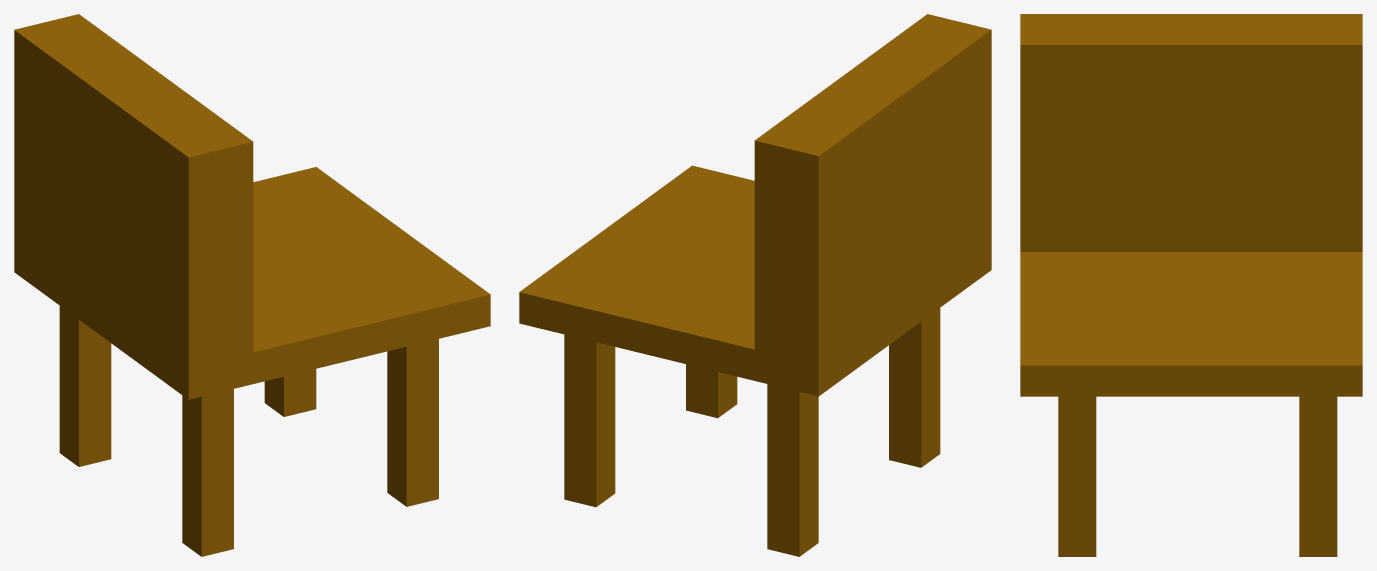
Rendered from chair.glb.
The picture shows the model from 3 angles, left to right: view 1: azimuth 30°, elevation 25°; view 2: azimuth 150°, elevation 25°; view 3: azimuth 270°, elevation 25°; orthographic projection.
Parts seen in each view (by area): view 1: Untitled; view 2: Untitled; view 3: Untitled.
Boxes of the visible parts, left/top/right/bottom form: Untitled: left=14, top=14, right=490, bottom=556; Untitled: left=519, top=14, right=991, bottom=556; Untitled: left=1020, top=14, right=1362, bottom=556.
Size of the model in its own units: 0.75 by 1 by 0.75.
1 material, 1 textured.
